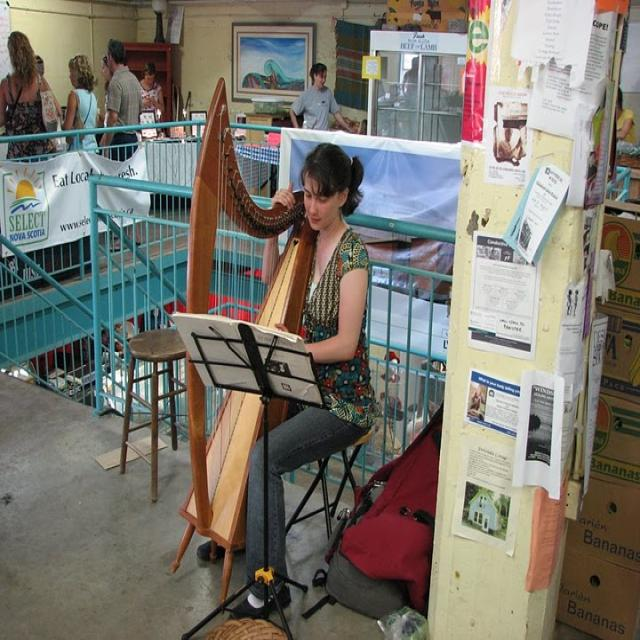harp: (176, 73, 320, 581)
